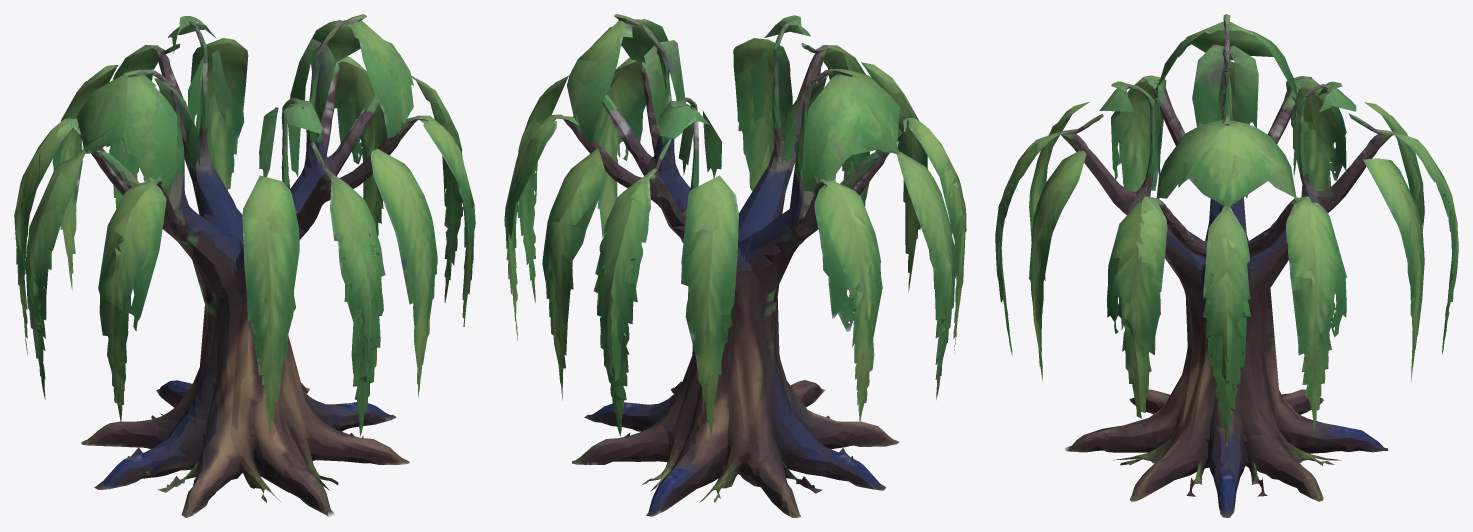
Rendered from willow.glb.
3 renders of one model, left to right at view 1: azimuth 30°, elevation 25°; view 2: azimuth 150°, elevation 25°; view 3: azimuth 270°, elevation 25°, orthographic. The views are drawn at different scales.
Visible parts, largest first — view 1: Rodin_willow; view 2: Rodin_willow; view 3: Rodin_willow.
Boxes of the visible parts, x1,y1,x2,y2 form: Rodin_willow: (14,14,475,517); Rodin_willow: (504,14,966,517); Rodin_willow: (995,14,1458,517).
Size of the model in its own units: 1.89 by 1.72 by 1.89.
1 material, 1 textured.
